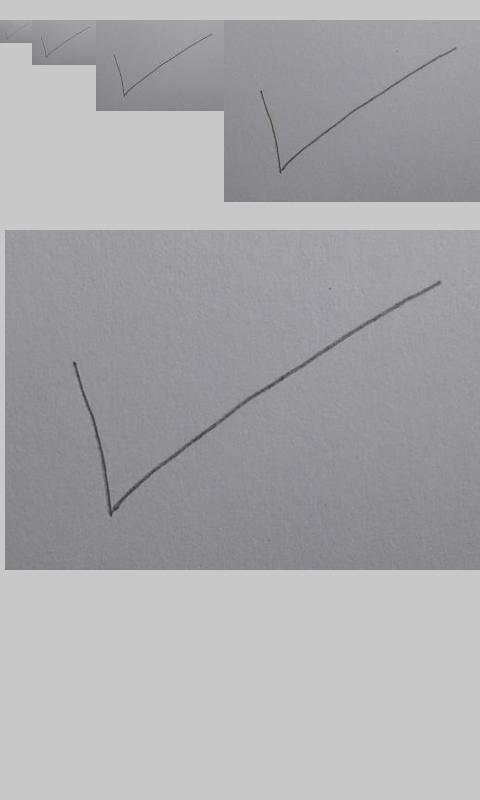check_box: (72, 280, 444, 520), (260, 48, 455, 173), (113, 34, 213, 97), (40, 26, 90, 58), (5, 23, 28, 40)
